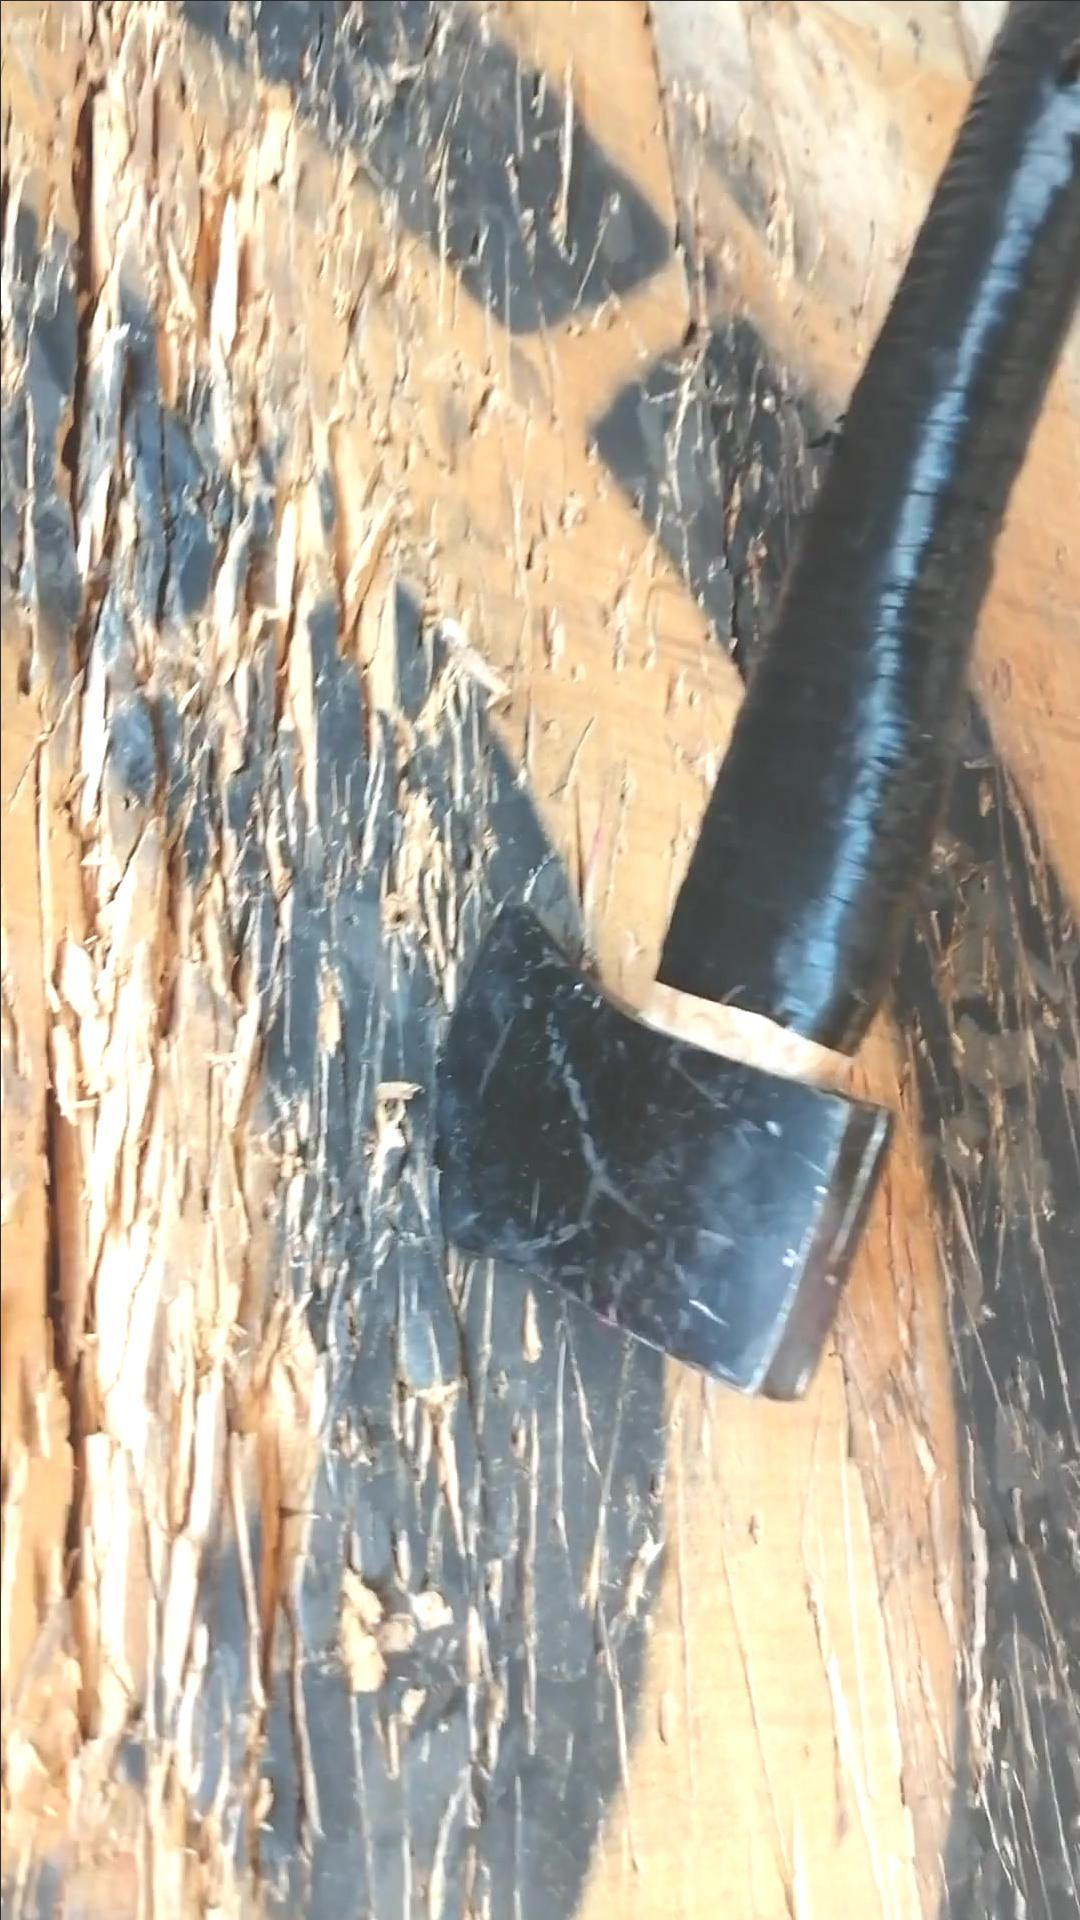Hand Axe: (422, 910, 903, 1398)
